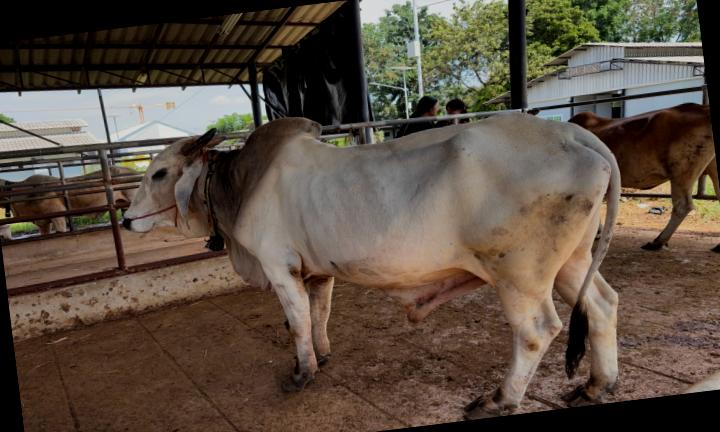Brahman: (124, 113, 620, 420)
